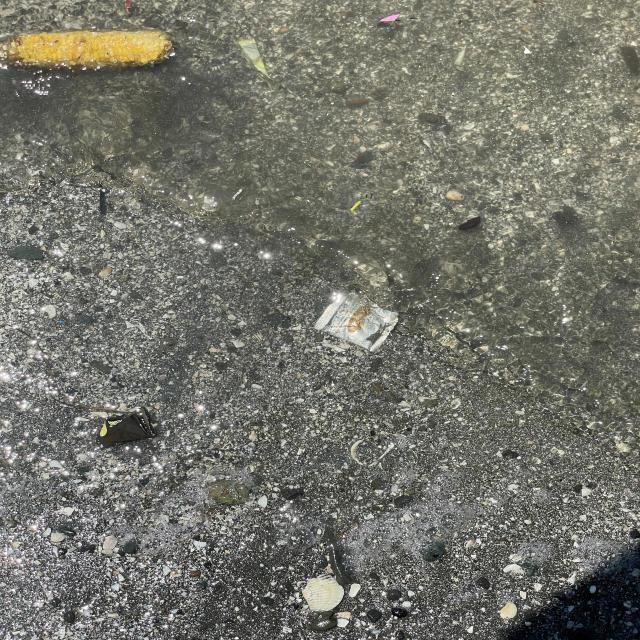plastic_waste: (314, 288, 401, 352), (234, 39, 272, 80)
